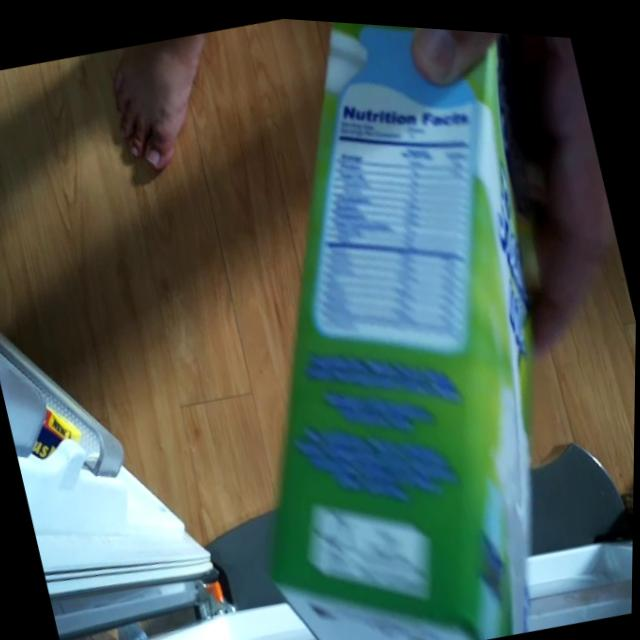milk: (140, 8, 632, 640)
